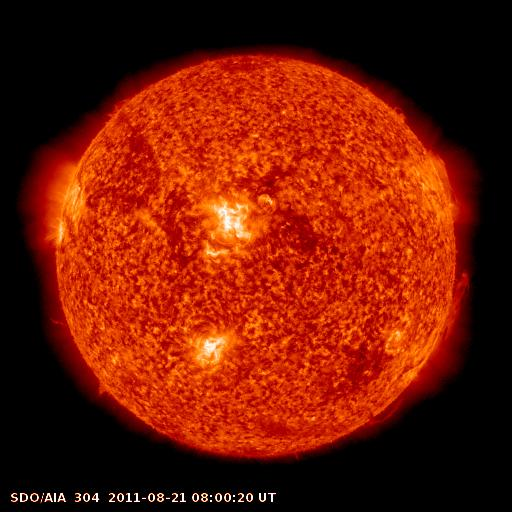prominence: (433, 269, 479, 345), (421, 143, 464, 207), (361, 393, 409, 430), (47, 309, 87, 348)
